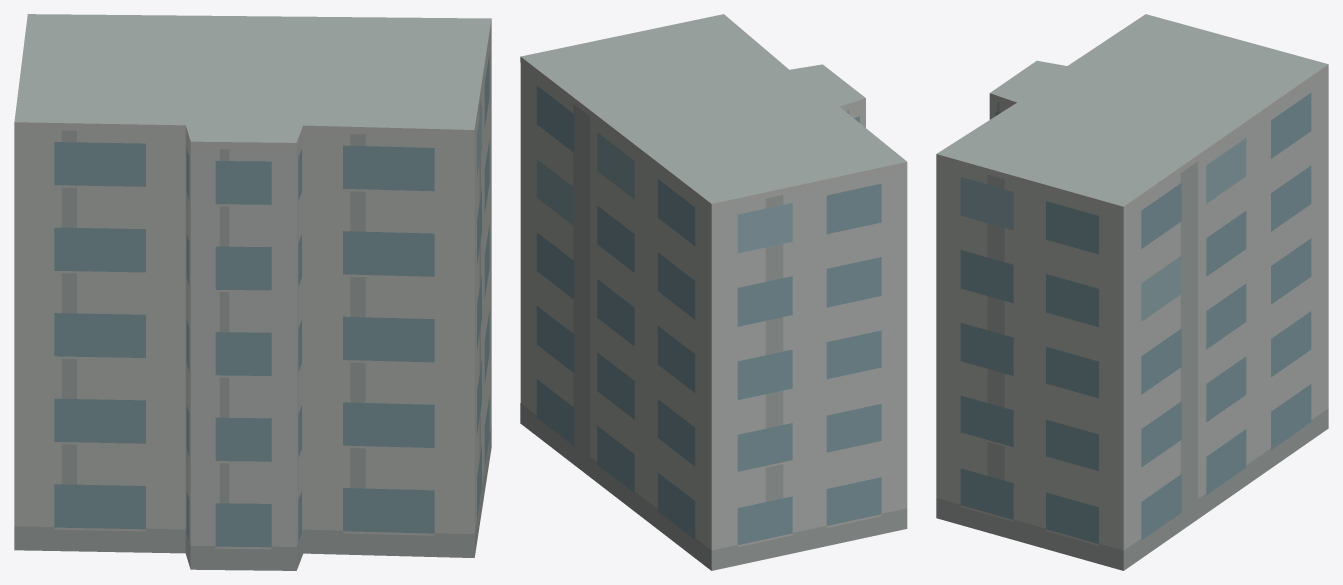
Rendered from survey-upis-32887664.glb.
The picture shows the model from 3 angles, left to right: view 1: azimuth 30°, elevation 25°; view 2: azimuth 150°, elevation 25°; view 3: azimuth 270°, elevation 25°; orthographic projection. The views are drawn at different scales.
Parts seen in each view (by area): view 1: survey-upis-32887664.tmp; view 2: survey-upis-32887664.tmp; view 3: survey-upis-32887664.tmp.
Boxes of the visible parts, x1,y1,x2,y2 form: survey-upis-32887664.tmp: (14,14,491,570); survey-upis-32887664.tmp: (520,14,907,570); survey-upis-32887664.tmp: (936,14,1328,570).
Bounding box in the file's own units: 16.13 × 14.2 × 13.87.
